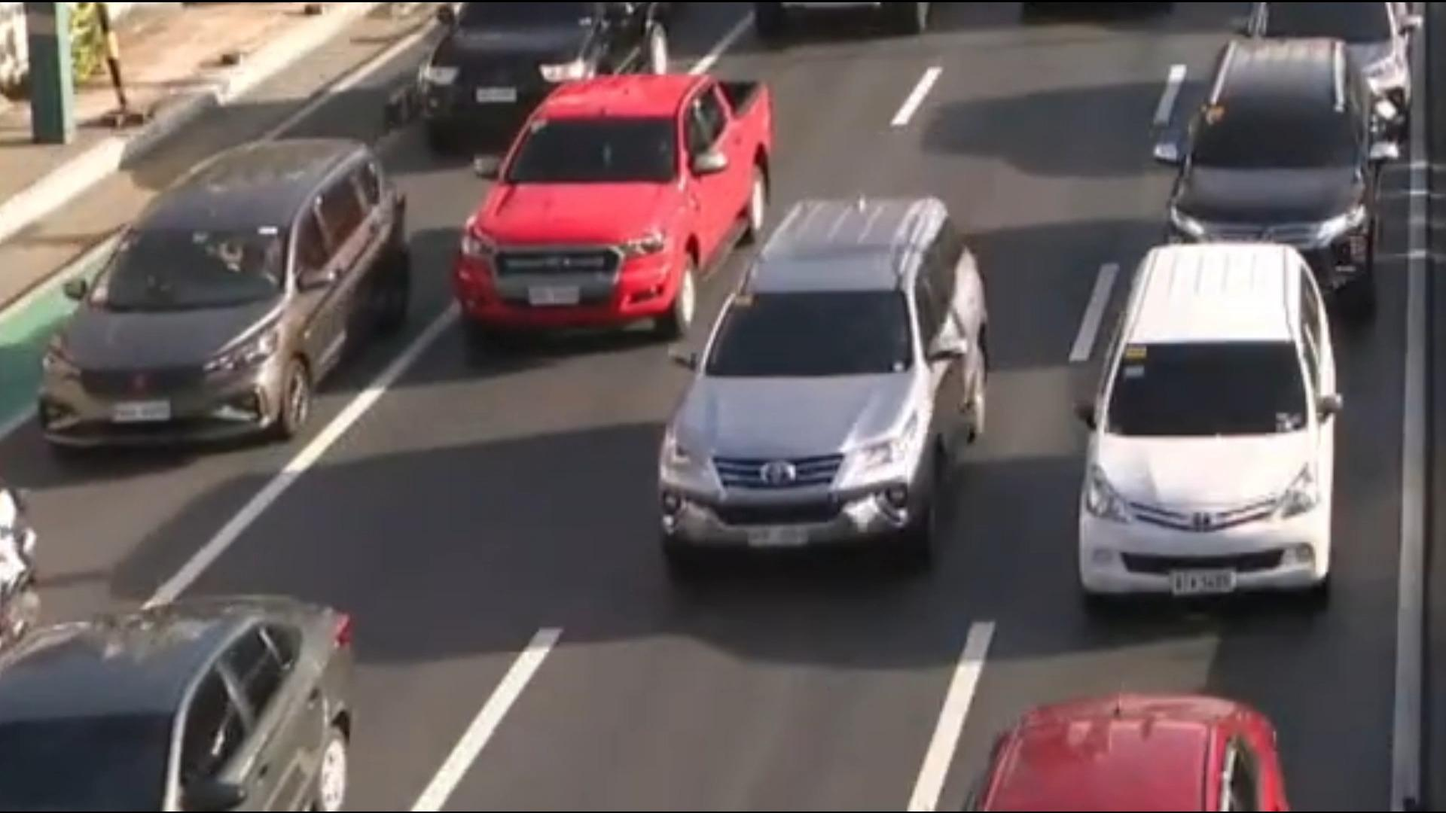Pickup: (447, 25, 844, 385)
SUV: (608, 172, 1023, 590), (0, 117, 428, 505), (1032, 234, 1392, 669), (1138, 42, 1407, 308)
Sedan: (0, 571, 390, 813)
